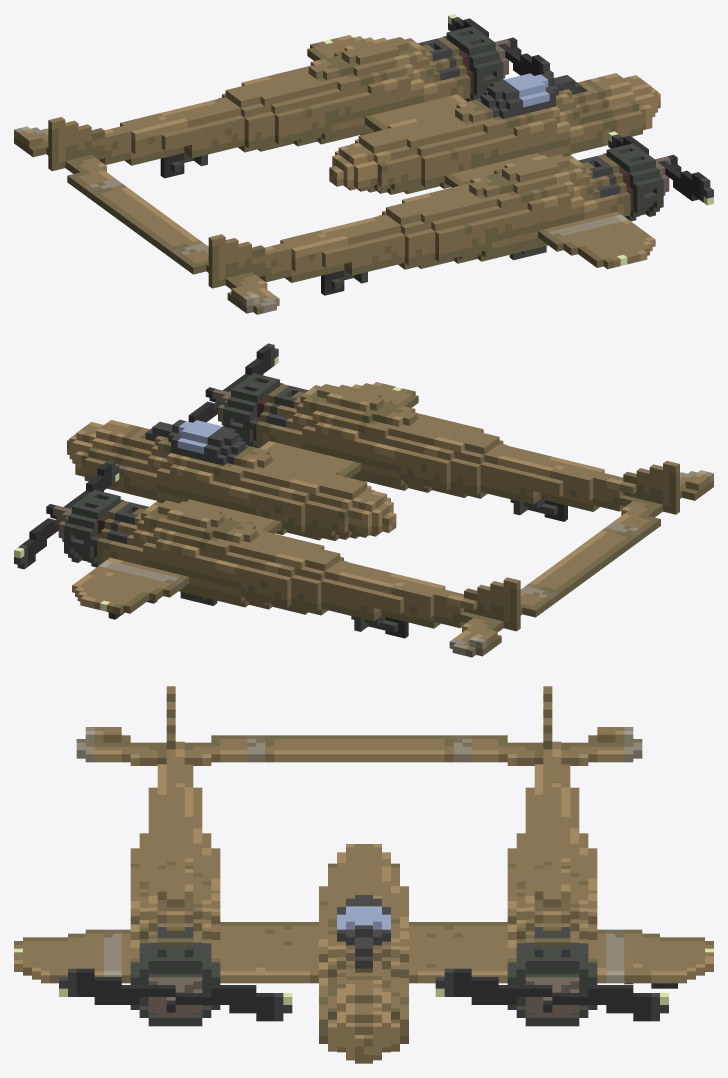
File: enemy03.glb
The picture shows the model from 3 angles, top to bottom: view 1: azimuth 30°, elevation 25°; view 2: azimuth 150°, elevation 25°; view 3: azimuth 270°, elevation 25°; orthographic projection. The views are drawn at different scales.
Parts seen in each view (by area): view 1: Untitled; view 2: Untitled; view 3: Untitled.
Part boxes in pixels (x1,y1,x2,y2): Untitled: (14, 14, 713, 314); Untitled: (14, 343, 713, 657); Untitled: (14, 686, 713, 1063).
Size of the model in its own units: 8 by 1.4 by 7.8.
Materials: 1 (1 with a texture image).
